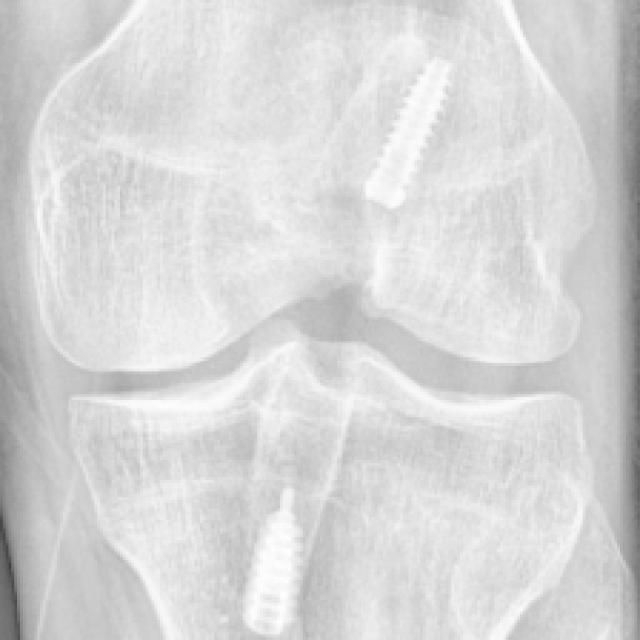femur: (25, 0, 597, 373)
tibia: (67, 339, 593, 640)
